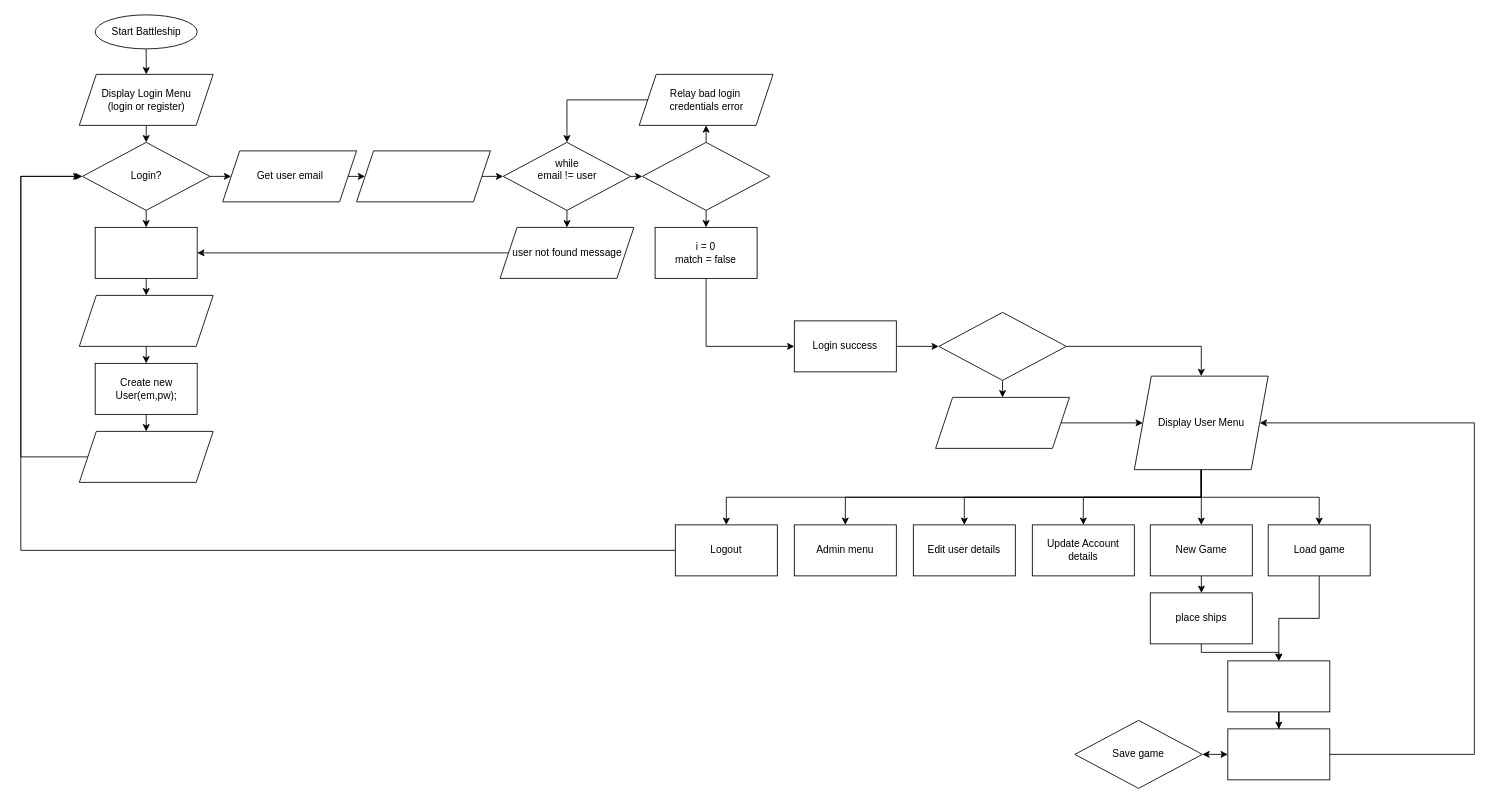
The diagram is 1496 pixels wide and 803 high, and some of its shapes have lost their labels. Here are the shapes that lost their labels. From the top down, the centre of each, then its label:
At pixel 423 176: "read in user database".
At pixel 705 176: "password is valid".
At pixel 145 252: "Begin new user registration".
At pixel 145 320: "Get user email & password".
At pixel 1002 346: "isAdmin?".
At pixel 1002 422: "additionally display admin menu".
At pixel 145 456: "store in user database".
At pixel 1278 686: "ask for coords".
At pixel 1278 754: "check if hit".
